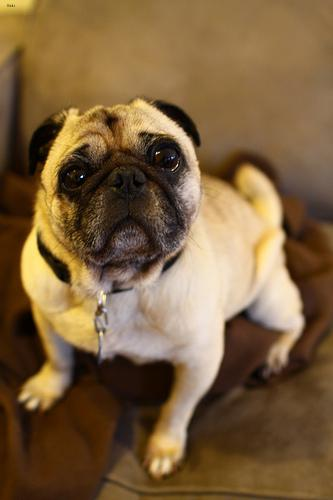dog-pug: (28, 94, 199, 265)
